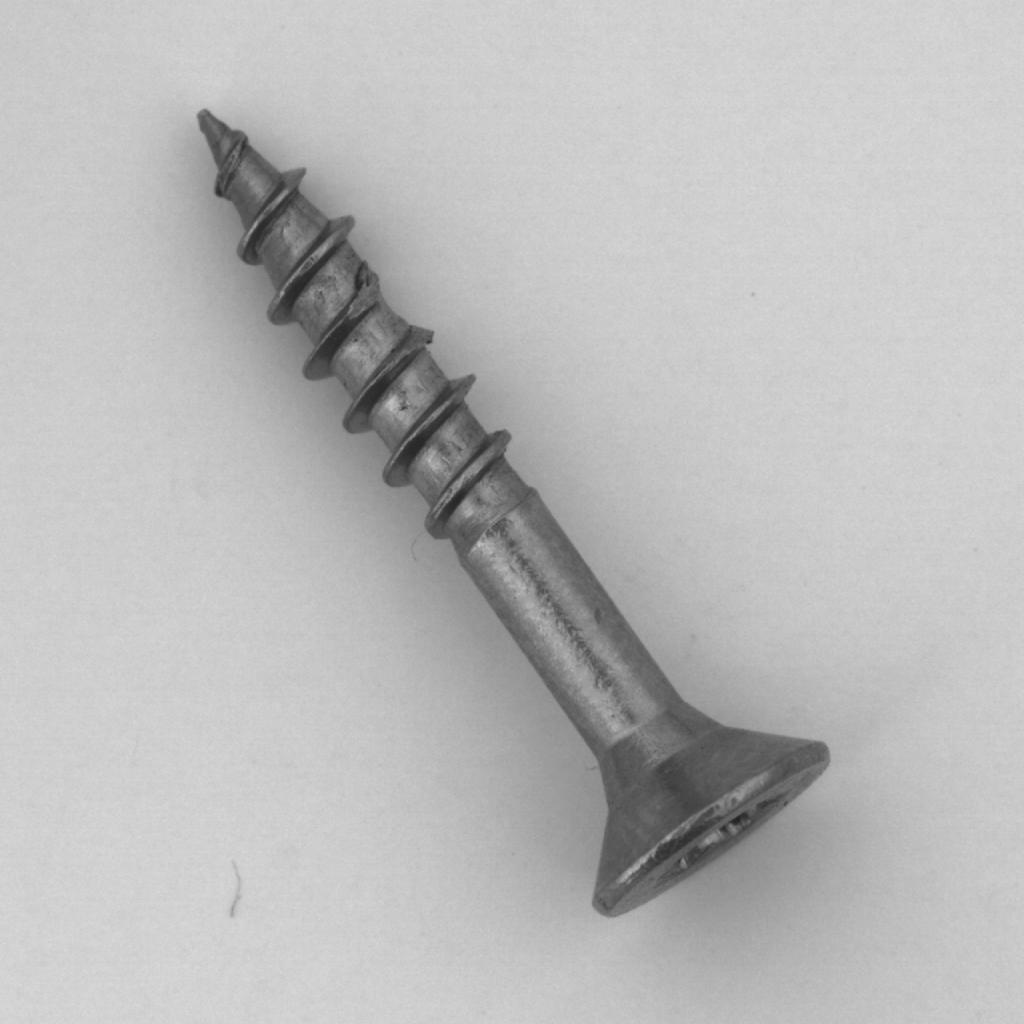thread_top: (188, 71, 843, 939)
